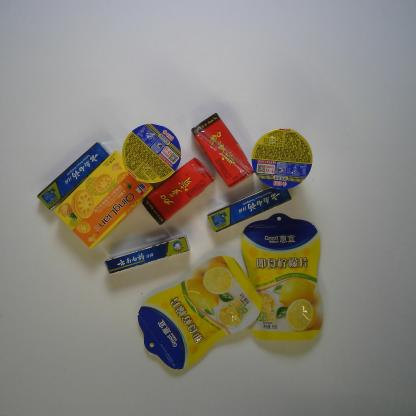Dessert: (54, 150, 153, 249)
Dried Fruit: (134, 253, 264, 375), (238, 214, 322, 346)
Drink: (189, 112, 254, 190), (142, 157, 213, 227)
Instant Noodles: (251, 127, 315, 192), (121, 123, 183, 185)
Personal Hygiene: (35, 140, 110, 210), (206, 184, 293, 235), (103, 234, 192, 277)
